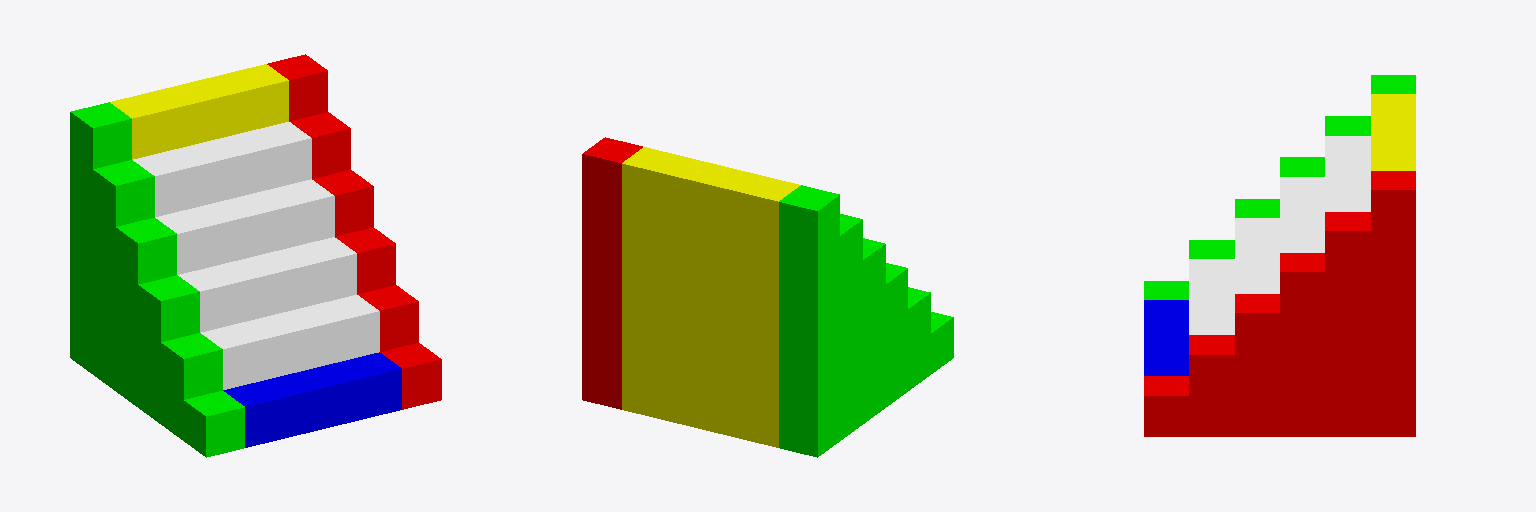
The picture shows the model from 3 angles: view 1: azimuth 30°, elevation 25°; view 2: azimuth 150°, elevation 25°; view 3: azimuth 270°, elevation 25°; orthographic projection.
Visible parts, largest first — view 1: object 1; view 2: object 1; view 3: object 1.
Boxes of the visible parts, x1=… form: object 1: x1=70, y1=54, x2=441, y2=457; object 1: x1=582, y1=137, x2=953, y2=457; object 1: x1=1144, y1=75, x2=1415, y2=436.
Size of the model in its own units: 0.6 by 0.6 by 0.6.
Materials: 1 (1 with a texture image).